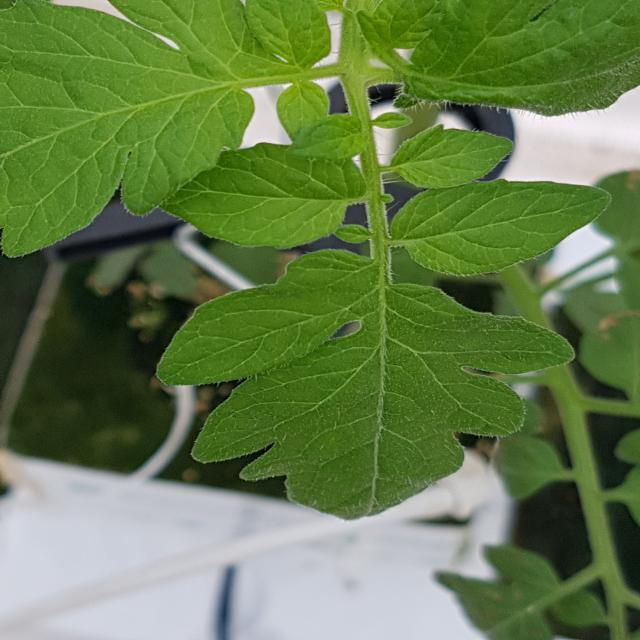Healthy Leaf: (158, 250, 576, 522), (1, 1, 255, 258), (364, 1, 640, 115), (160, 145, 364, 248), (394, 183, 612, 276), (393, 128, 515, 190), (250, 1, 329, 71)
